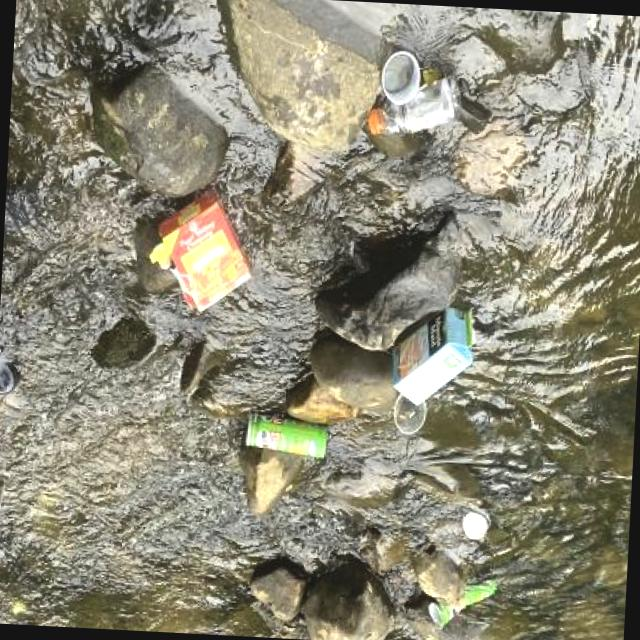Can-Metal: (419, 556, 509, 640)
Cardboard: (138, 174, 260, 326), (379, 293, 482, 414), (238, 406, 338, 461)
Paper: (451, 501, 495, 545)
Plastic: (366, 76, 466, 150), (368, 47, 432, 105)
